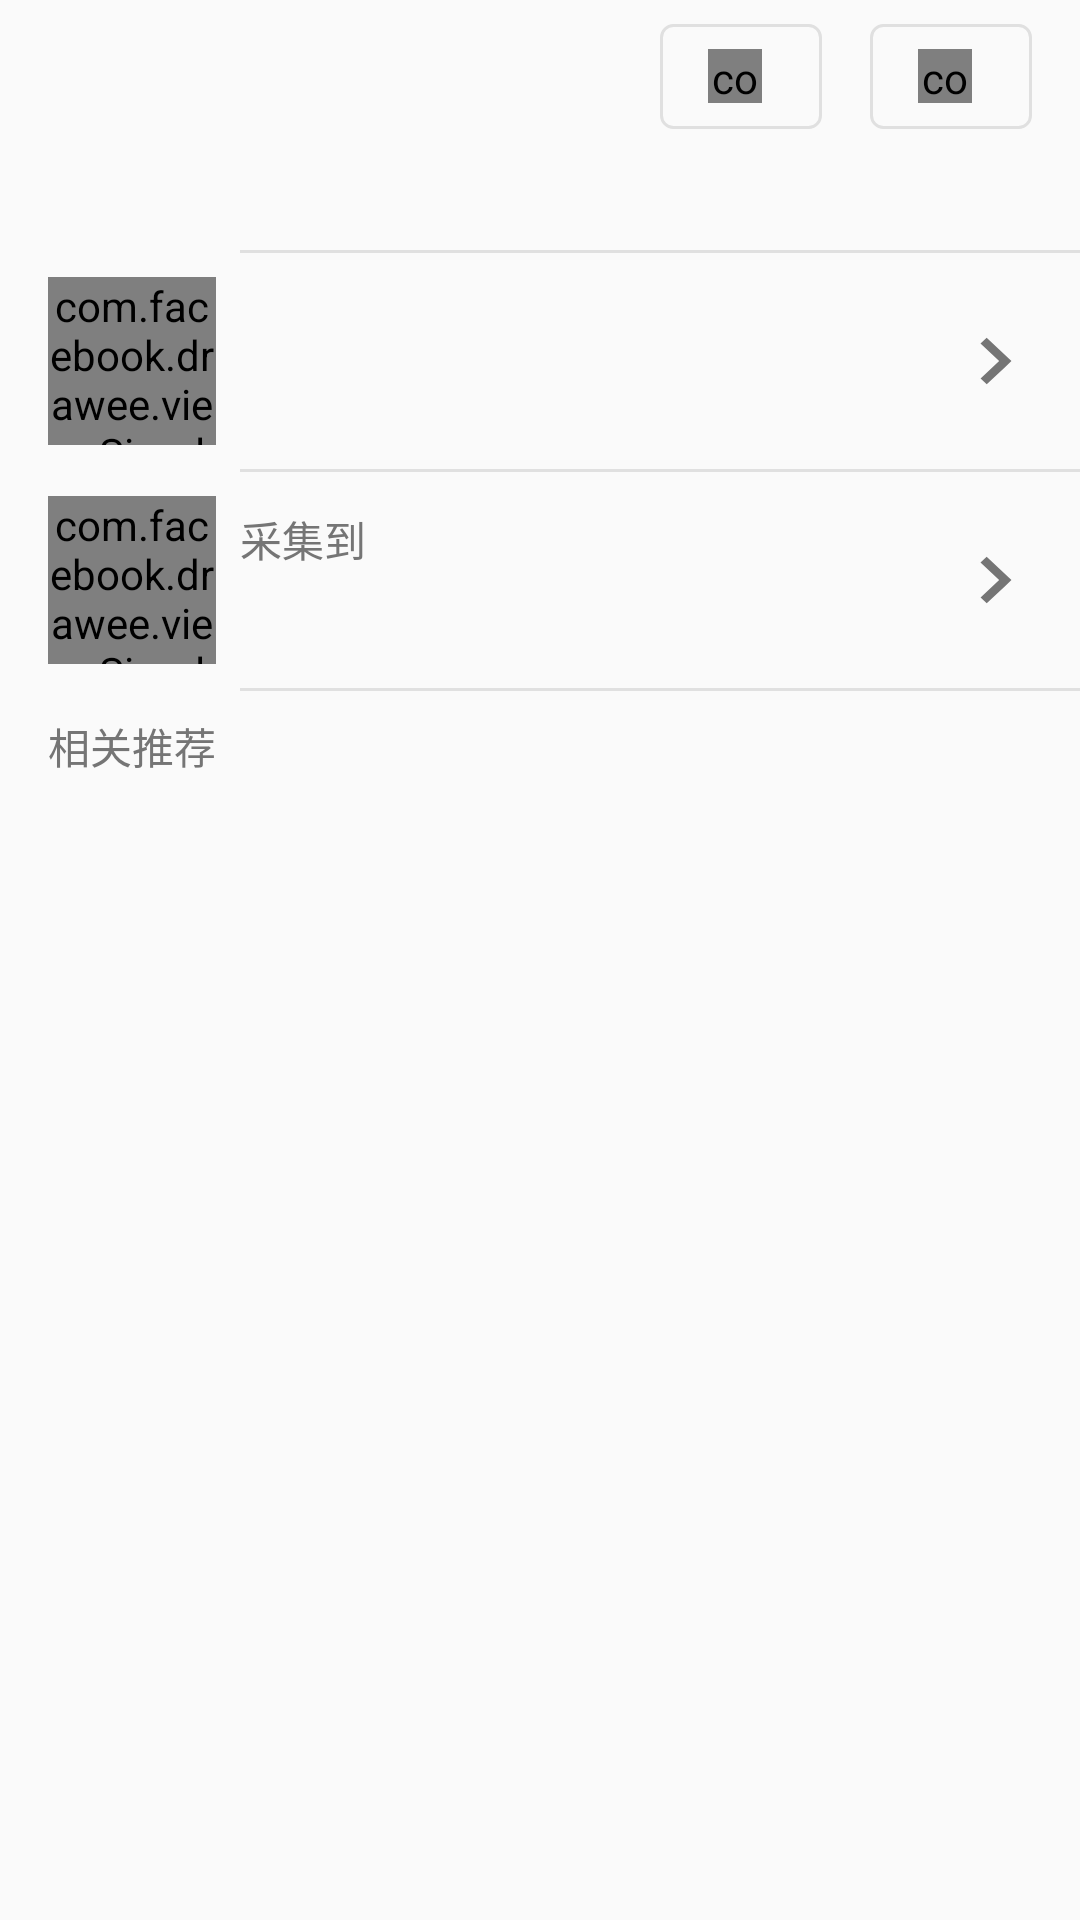

Named icons in this screenshot (1080*1920) and their bounding boxes, region(x1, y1, x2, y2):
more right arrow: region(980, 338, 1011, 384), region(980, 557, 1011, 603)
